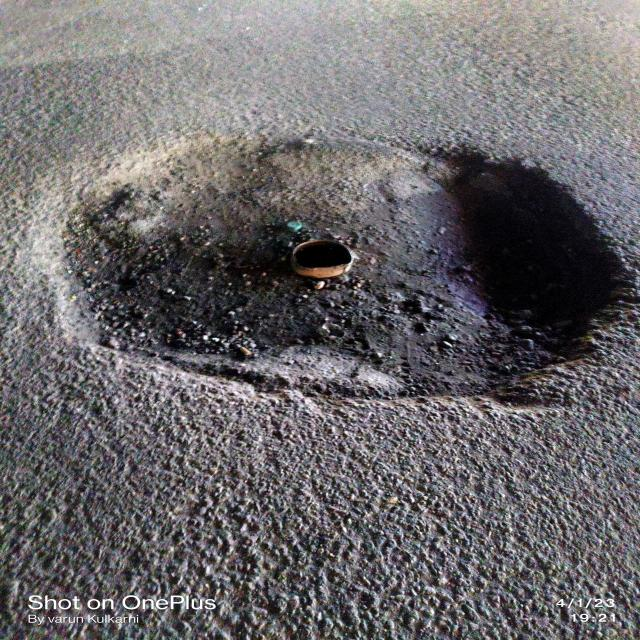potholes: (36, 119, 632, 423)
